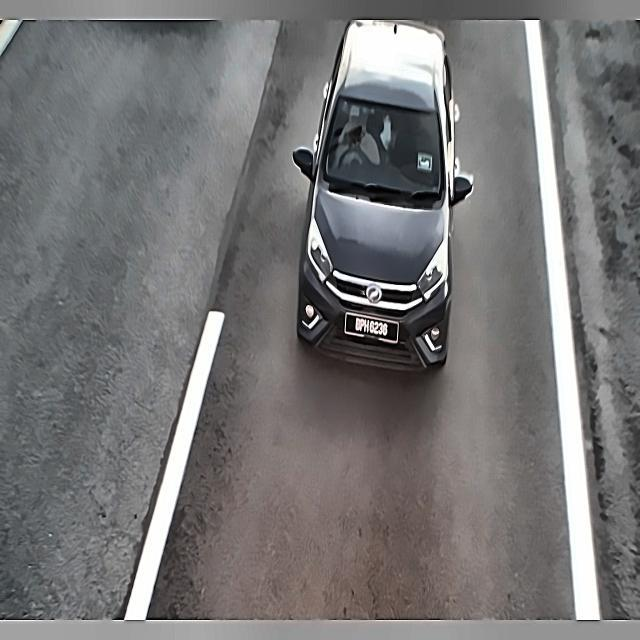car: (342, 310, 401, 349)
